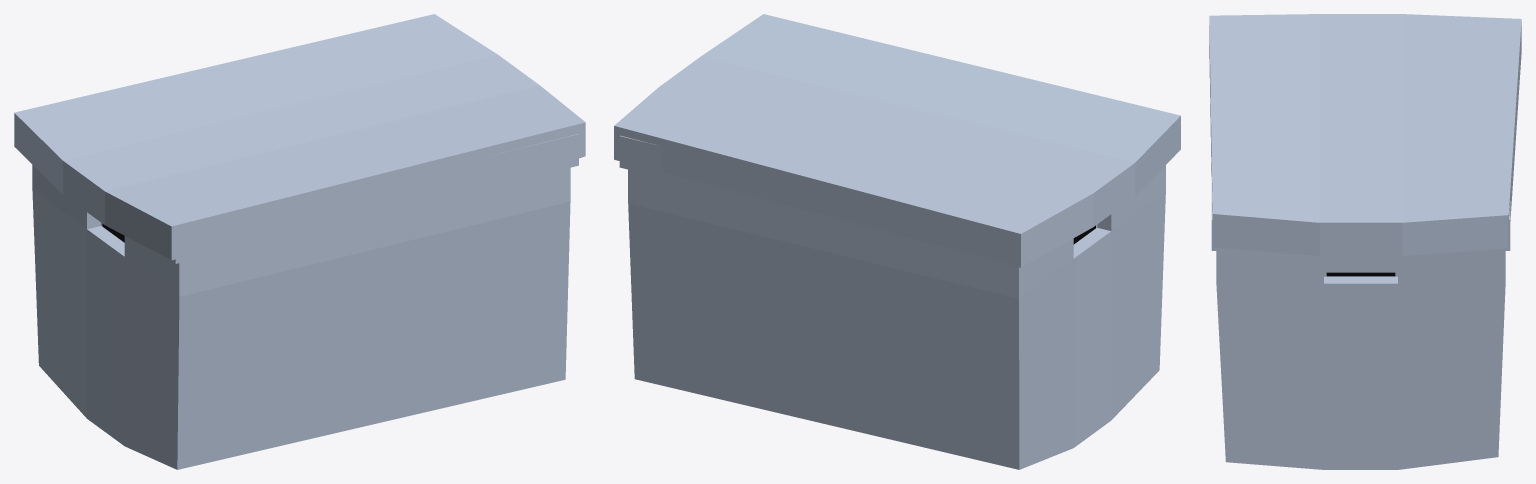
Rendered from officeswhiteboxoutlinetest.fbx.
3 renders of one model, left to right at view 1: azimuth 30°, elevation 25°; view 2: azimuth 150°, elevation 25°; view 3: azimuth 270°, elevation 25°, orthographic.
Parts seen in each view (by area): view 1: whiteofficebox_modelingfbx, whiteofficebox_modelingfbx.001; view 2: whiteofficebox_modelingfbx, whiteofficebox_modelingfbx.001; view 3: whiteofficebox_modelingfbx, whiteofficebox_modelingfbx.001.
Part boxes in pixels (x1,y1,x2,y2): whiteofficebox_modelingfbx: [14, 14, 585, 469]; whiteofficebox_modelingfbx.001: [101, 134, 578, 263]; whiteofficebox_modelingfbx: [614, 14, 1180, 469]; whiteofficebox_modelingfbx.001: [619, 135, 1097, 244]; whiteofficebox_modelingfbx: [1209, 14, 1521, 469]; whiteofficebox_modelingfbx.001: [1211, 172, 1510, 276].
Bounding box in the file's own units: 427 × 250 × 270.
